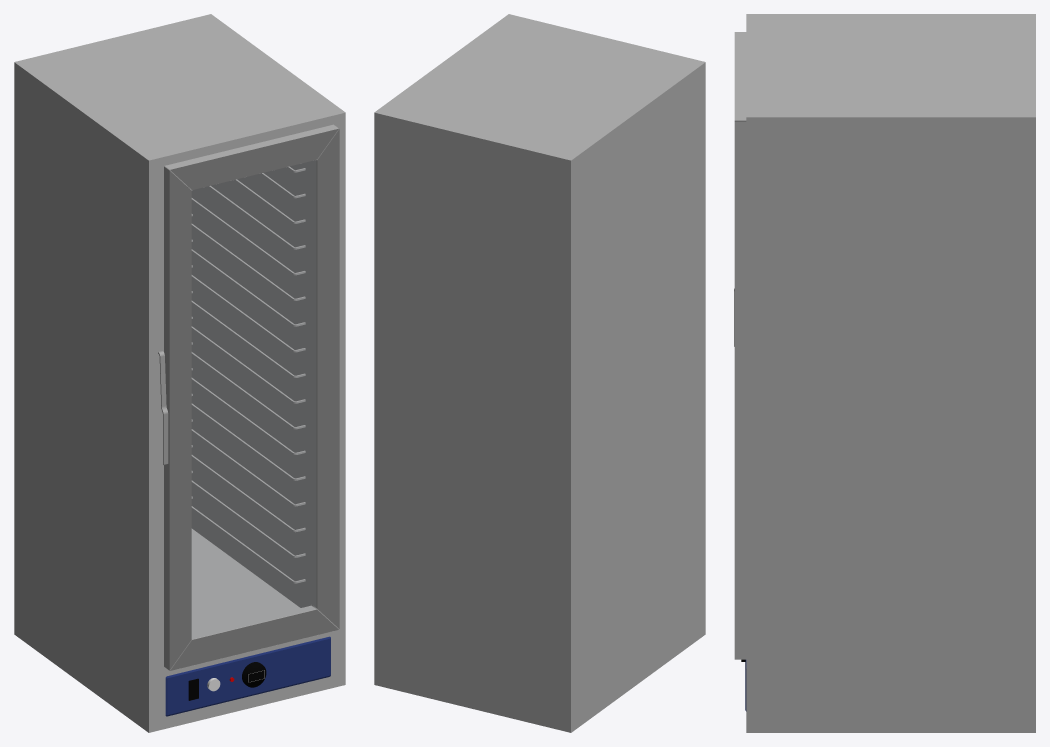
Rendered from Heated-Cabinet-18.glb.
3 renders of one model, left to right at view 1: azimuth 30°, elevation 25°; view 2: azimuth 150°, elevation 25°; view 3: azimuth 270°, elevation 25°, orthographic. The views are drawn at different scales.
Parts seen in each view (by area): view 1: Heated_cabinet_ATHC-18ES; view 2: Heated_cabinet_ATHC-18ES; view 3: Heated_cabinet_ATHC-18ES.
Boxes of the visible parts, x1=… form: Heated_cabinet_ATHC-18ES: x1=14, y1=14, x2=345, y2=732; Heated_cabinet_ATHC-18ES: x1=374, y1=14, x2=705, y2=732; Heated_cabinet_ATHC-18ES: x1=734, y1=14, x2=1035, y2=732.
Bounding box in the file's own units: 0.4397 × 1.22 × 0.5425.
